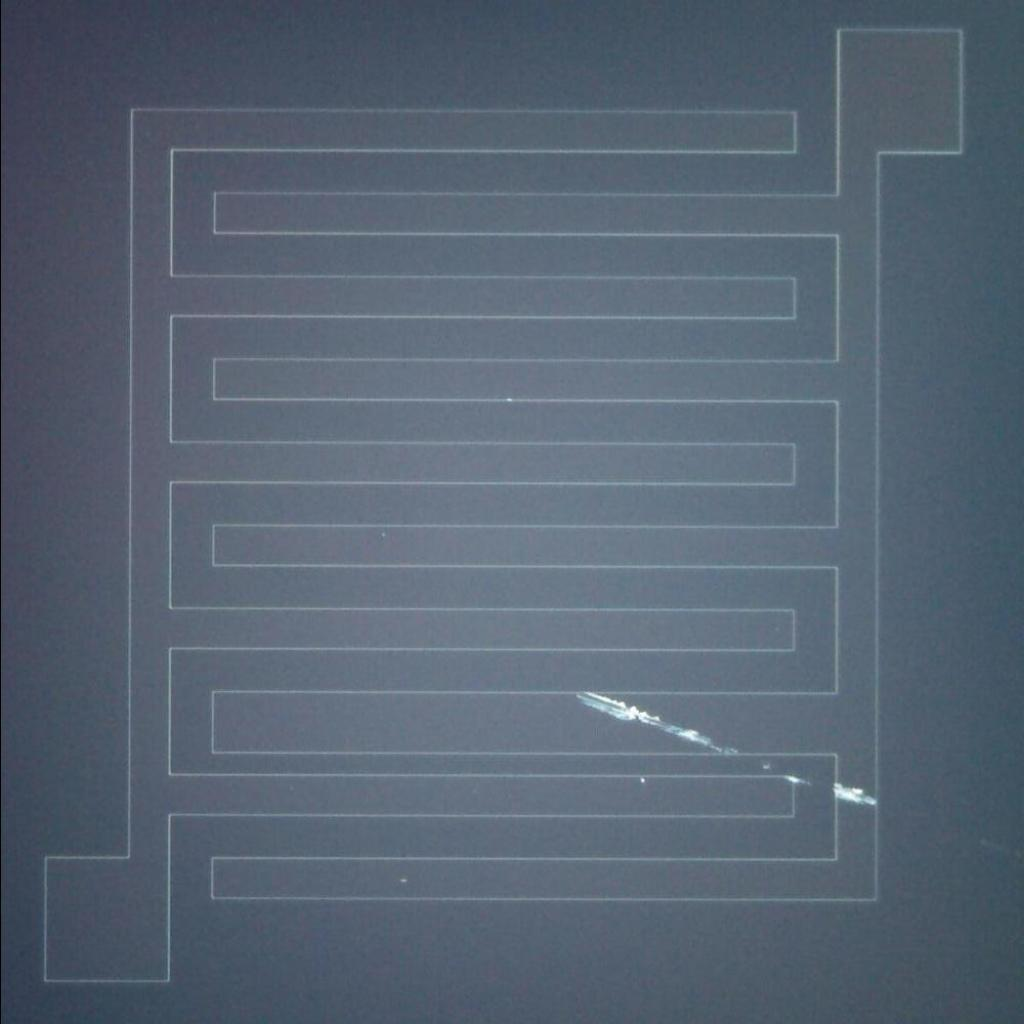dot: (629, 767, 654, 793)
fat circuit: (196, 685, 851, 760)
scratch: (569, 687, 726, 753), (830, 781, 875, 810)
